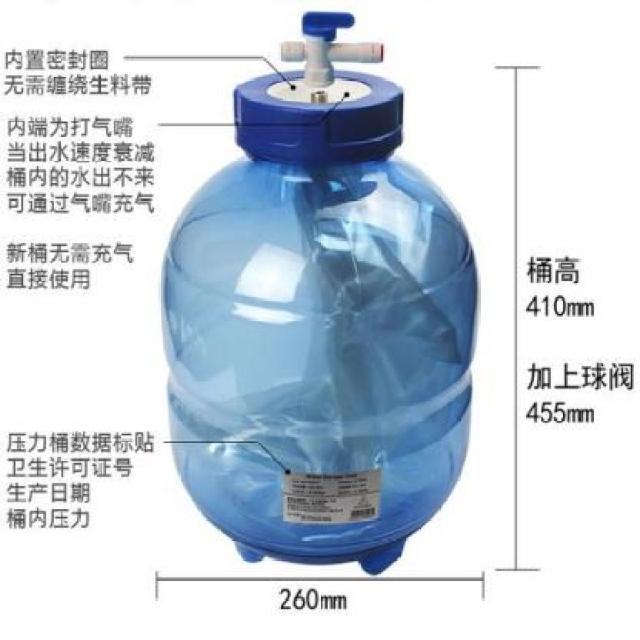coolerbottle: (155, 120, 486, 578)
